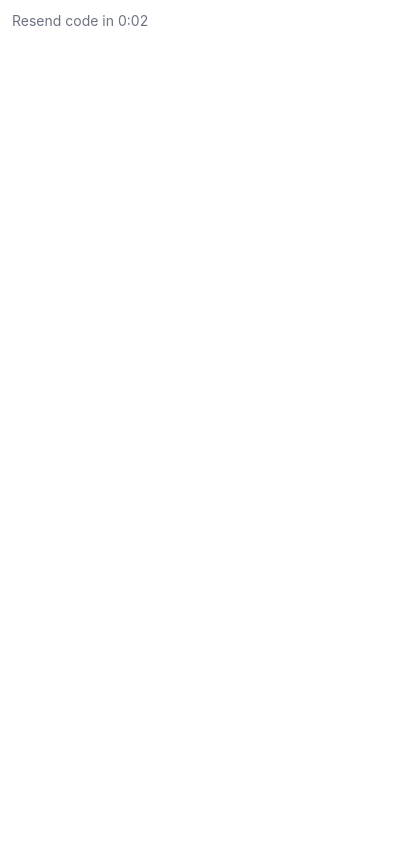
Test: timer › OtpResendTimer only allows resend after the countdown
Expected: the text "Resend code in 0:02" is shown, x1=12 y1=12 x2=148 y2=29
Click the button with test id "otp-resend" at (80, 434), box x1=12 y1=12 x2=148 y2=855
Wait 2100 ms
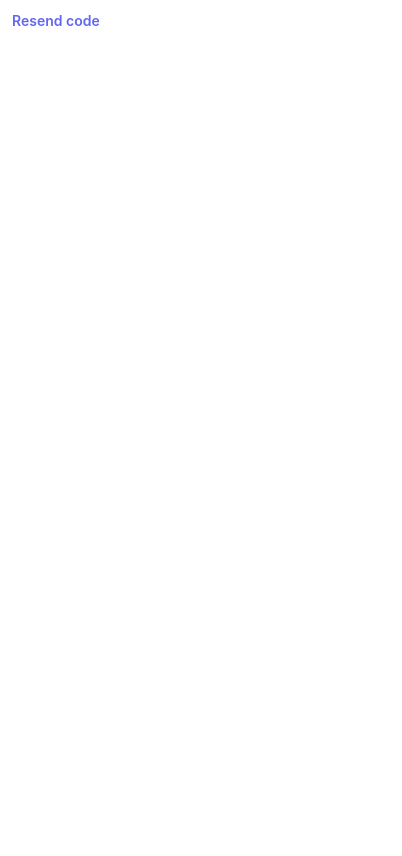
Click the button "Resend code" at (56, 434), box x1=12 y1=12 x2=100 y2=855
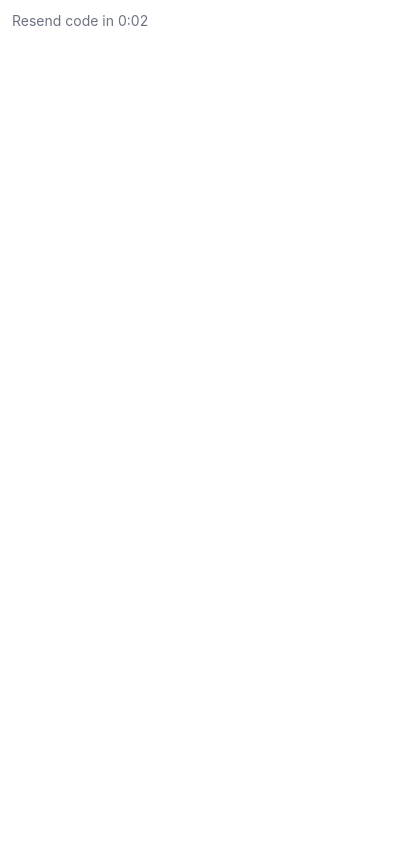
Now the text "Resend code in 0:02" is shown, box x1=12 y1=12 x2=148 y2=29
